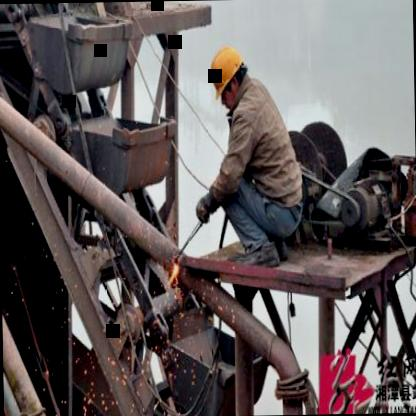helmet: (205, 38, 254, 114)
